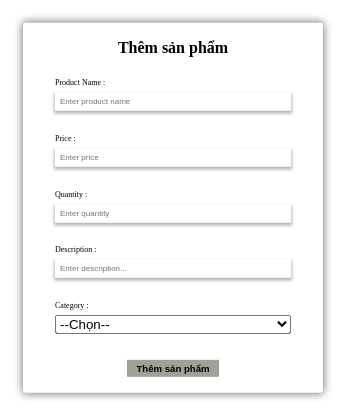
Test case: Product Form Component Tests › TC3: Hiển thị lỗi khi submit form rỗng
Submit without filling
Click the button "Thêm sản phẩm": (173, 368) [127, 360, 219, 377]
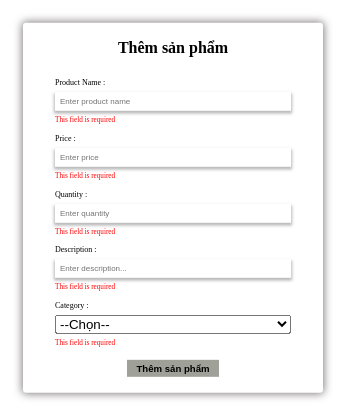
Expected: the text "This field is required" below "Product Name" is shown, [55, 116, 115, 124]
